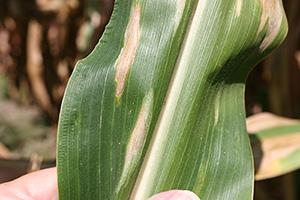Corn leaf blight: (62, 1, 285, 185)
